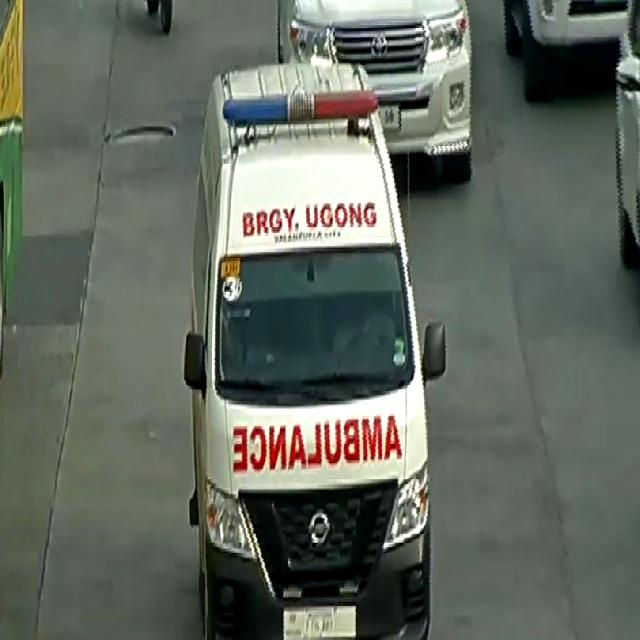emergency: (182, 62, 450, 637)
